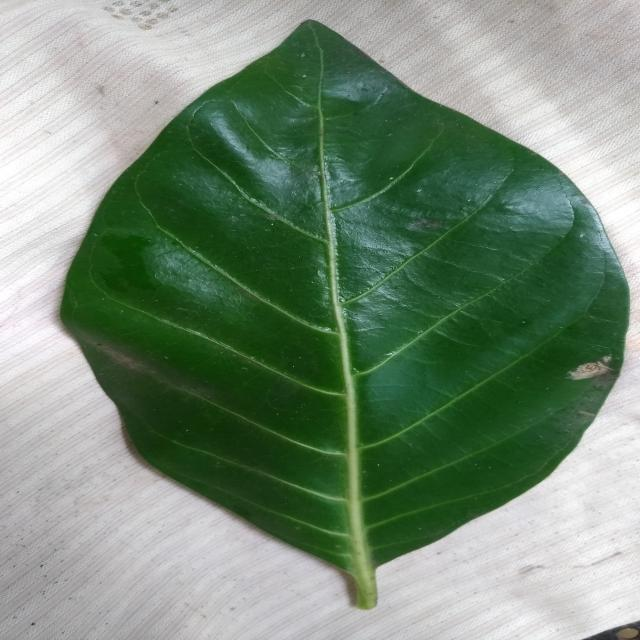nooni: (62, 21, 629, 608)
